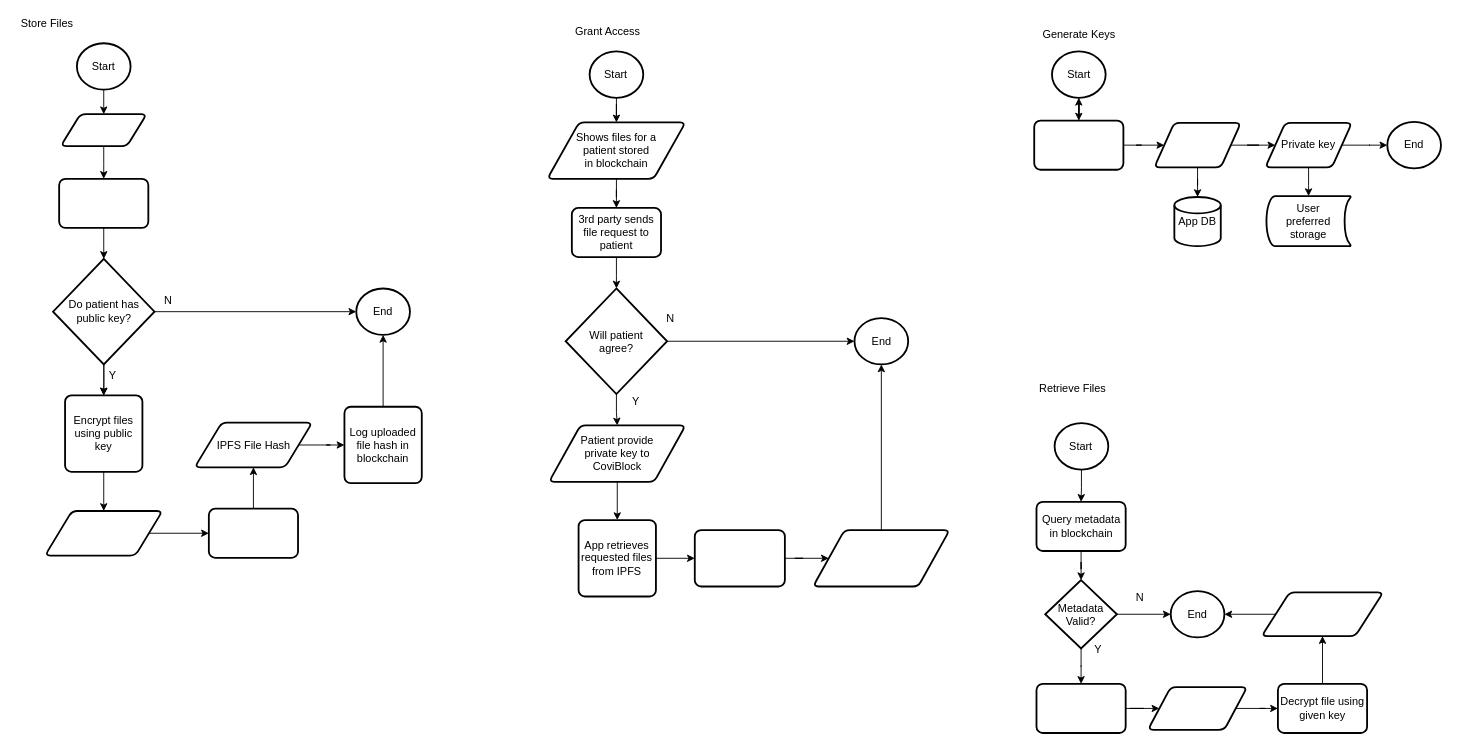
This 1457x749 diagram has some shape labels left out. The shapes that lost their labels are listed below. From the top down, each one's centre as x and y in pixels, then its label:
At (x=103, y=130): "Raw file".
At (x=1078, y=144): "Patient trigger key generation".
At (x=1197, y=144): "Public key".
At (x=103, y=202): "Upload File to Coviblock".
At (x=103, y=533): "Encrypted File".
At (x=252, y=532): "Store encrypted file in IPFS".
At (x=739, y=558): "Encrypt files with private key".
At (x=881, y=558): "Show decrypted files to 3rd party".
At (x=1322, y=614): "Display decrypted files".
At (x=1080, y=707): "Retrieve file from IPFS".
At (x=1197, y=708): "Private key from patient".
